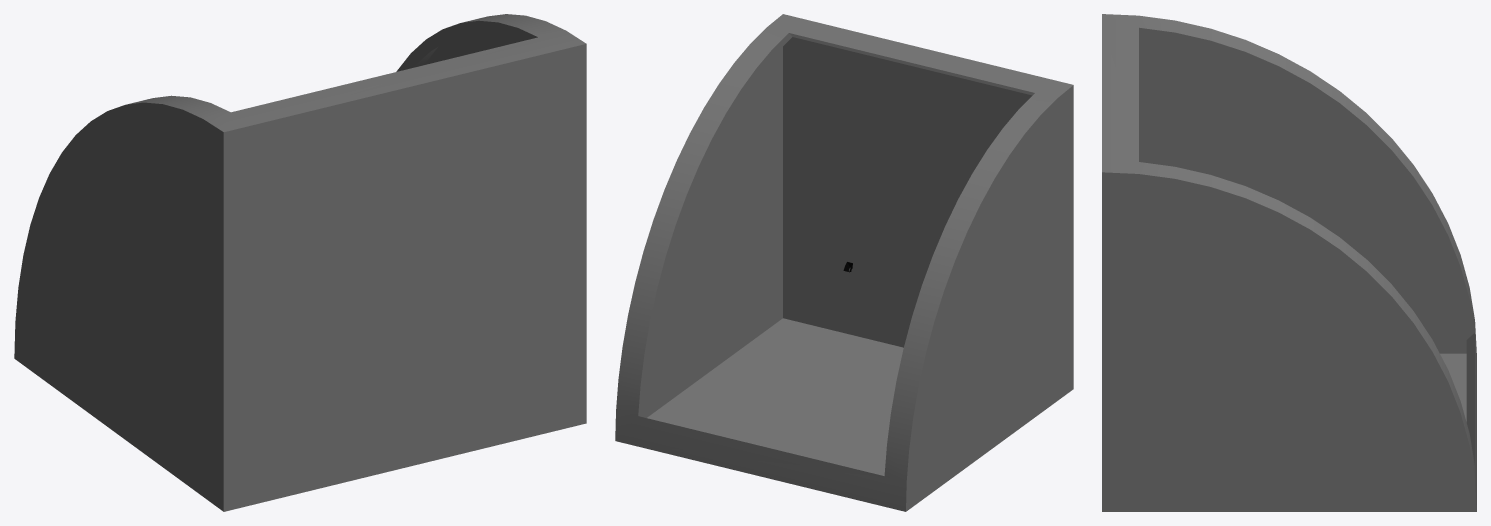
Rendered from Light_Deng4_1X1_off.FBX.
3 renders of one model, left to right at view 1: azimuth 30°, elevation 25°; view 2: azimuth 150°, elevation 25°; view 3: azimuth 270°, elevation 25°, orthographic. The views are drawn at different scales.
Visible parts, largest first — view 1: Box002; view 2: Box002; view 3: Box002.
Boxes of the visible parts, x1,y1,x2,y2 form: Box002: [14, 14, 586, 511]; Box002: [615, 14, 1073, 511]; Box002: [1102, 14, 1476, 511].
Bounding box in the file's own units: 1 × 1 × 1.
